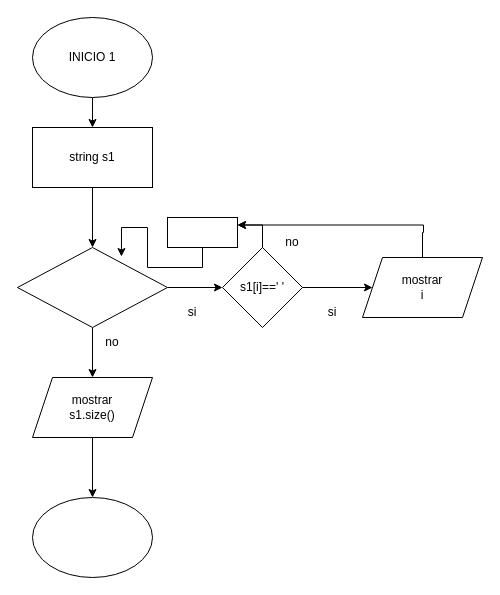
Image size: 500x595. Some labels were removed from this diagram. Here are the shapes that lost their labels. From the top down, the centre of each, then its label:
At [202,232]: "i++".
At [92,287]: "if int i=0 y i<=s1.size()".
At [92,537]: "fin".
